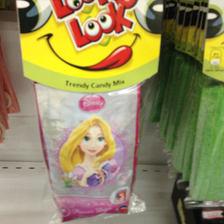candy: (23, 1, 166, 224), (178, 6, 224, 208)
